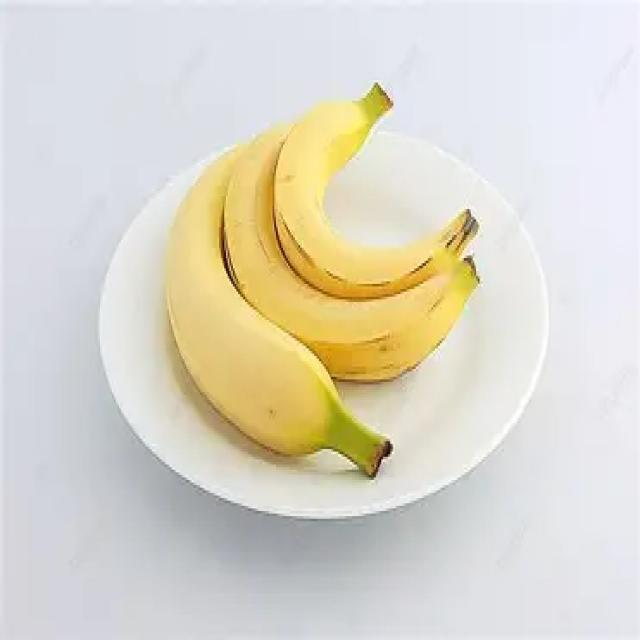BANANA: (160, 84, 481, 481)
